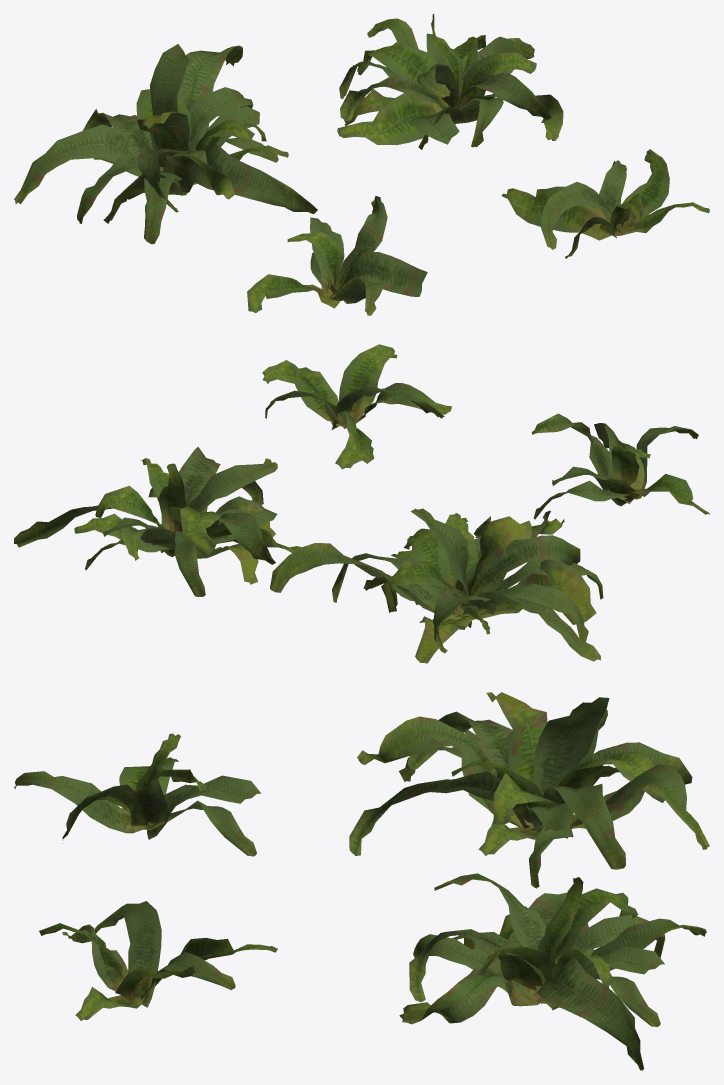
The model's file is fern_02.glb.
3 renders of one model, top to bottom at view 1: azimuth 30°, elevation 25°; view 2: azimuth 150°, elevation 25°; view 3: azimuth 270°, elevation 25°, orthographic. The views are drawn at different scales.
Visible parts, largest first — view 1: fern_02_b; view 2: fern_02_b; view 3: fern_02_b.
Part boxes in pixels (bbox=[...]): fern_02_b: bbox=[14, 14, 709, 315]; fern_02_b: bbox=[14, 344, 709, 663]; fern_02_b: bbox=[14, 692, 709, 1070].
Bounding box in the file's own units: 1.97 × 0.4277 × 1.72.
Materials: 1 (1 with a texture image).
